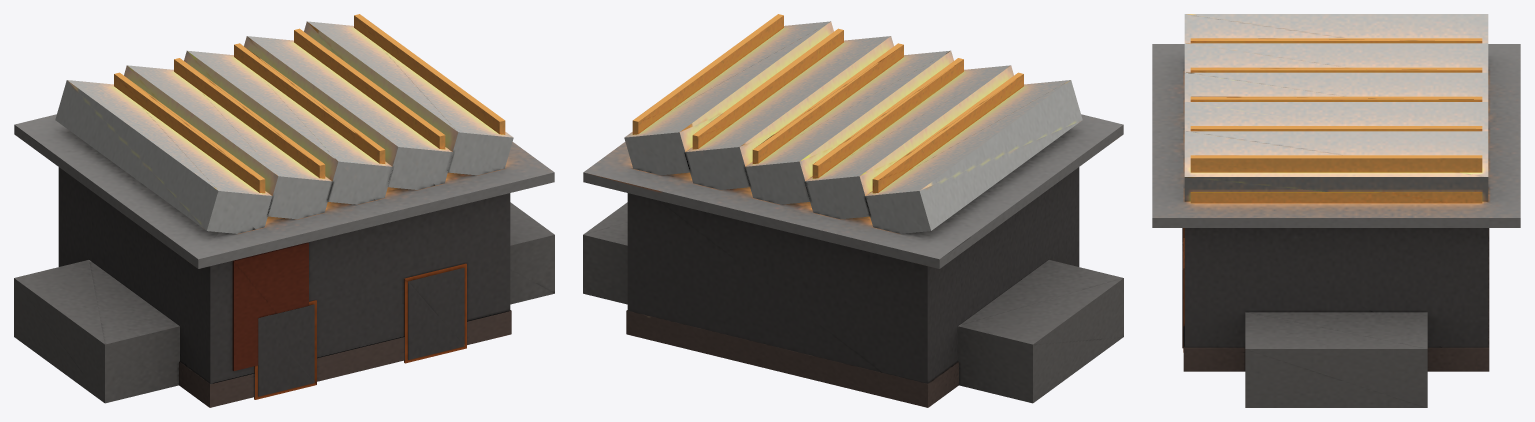
The model's file is processing_hall_1_kiln.glb.
3 renders of one model, left to right at view 1: azimuth 30°, elevation 25°; view 2: azimuth 150°, elevation 25°; view 3: azimuth 270°, elevation 25°, orthographic.
Parts seen in each view (by area): view 1: Cube; view 2: Cube; view 3: Cube.
Part boxes in pixels (<box>): Cube: <box>14,14,554,407</box>; Cube: <box>583,14,1123,407</box>; Cube: <box>1152,14,1520,407</box>.
Bounding box in the file's own units: 24 × 11.08 × 17.
Materials: 1 (1 with a texture image).
